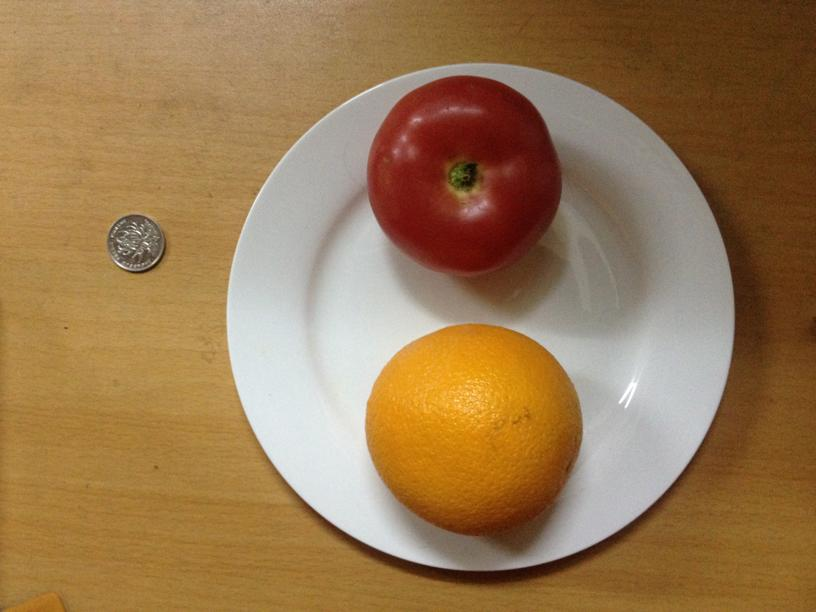coin: (107, 212, 166, 271)
orange: (362, 320, 581, 536)
tomato: (369, 74, 562, 277)
